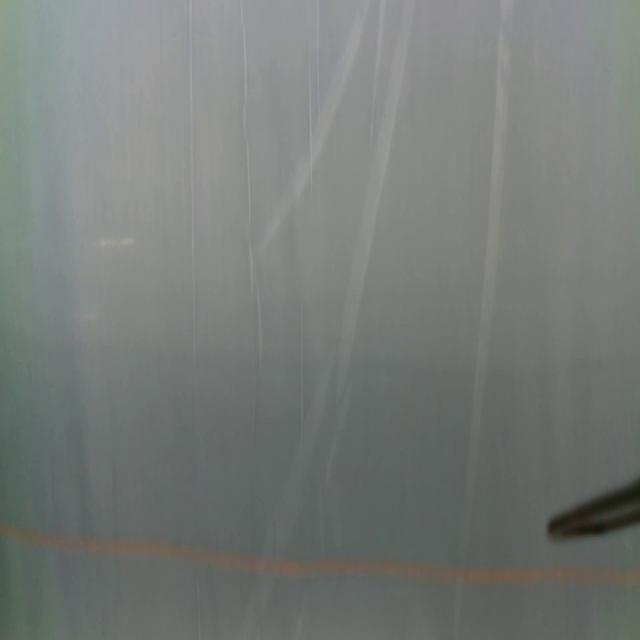color bleeding: (0, 313, 640, 400)
crease: (451, 0, 515, 636), (337, 0, 417, 398), (238, 2, 265, 365), (186, 0, 199, 357), (303, 42, 316, 200), (298, 306, 307, 424), (315, 1, 323, 129)
